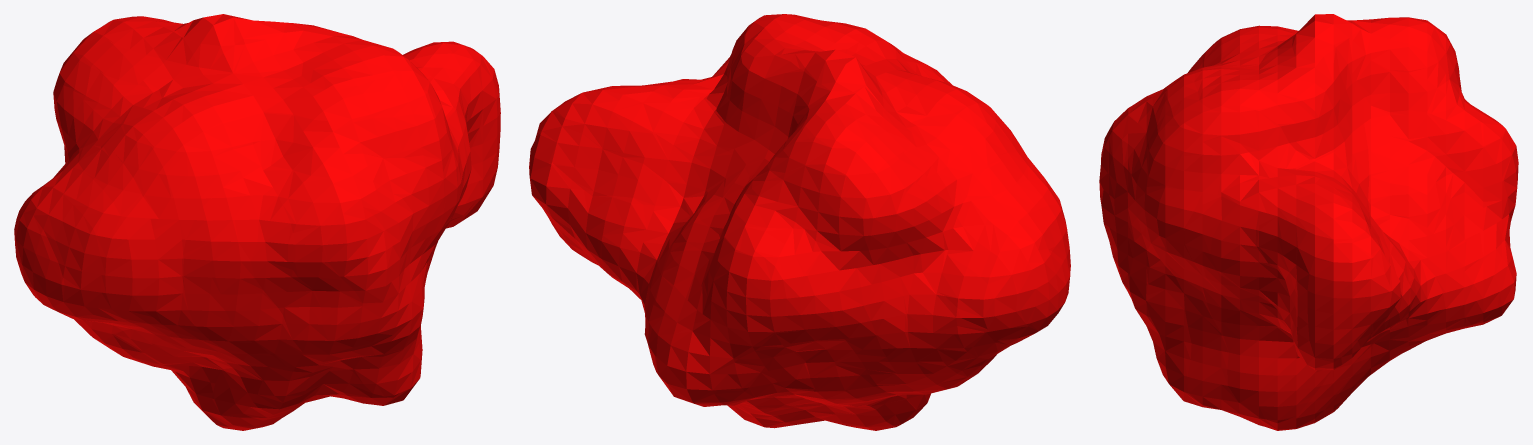
Rendered from gpmB_coarse.dae.
3 views of the same model, side by side, from view 1: azimuth 30°, elevation 25°; view 2: azimuth 150°, elevation 25°; view 3: azimuth 270°, elevation 25° (orthographic). The views are drawn at different scales.
Parts seen in each view (by area): view 1: gpmB; view 2: gpmB; view 3: gpmB.
Boxes of the visible parts, x1,y1,x2,y2 form: gpmB: (14, 14, 500, 430); gpmB: (529, 14, 1070, 430); gpmB: (1099, 14, 1518, 430).
Bounding box in the file's own units: 58.2 × 44.26 × 46.12.
